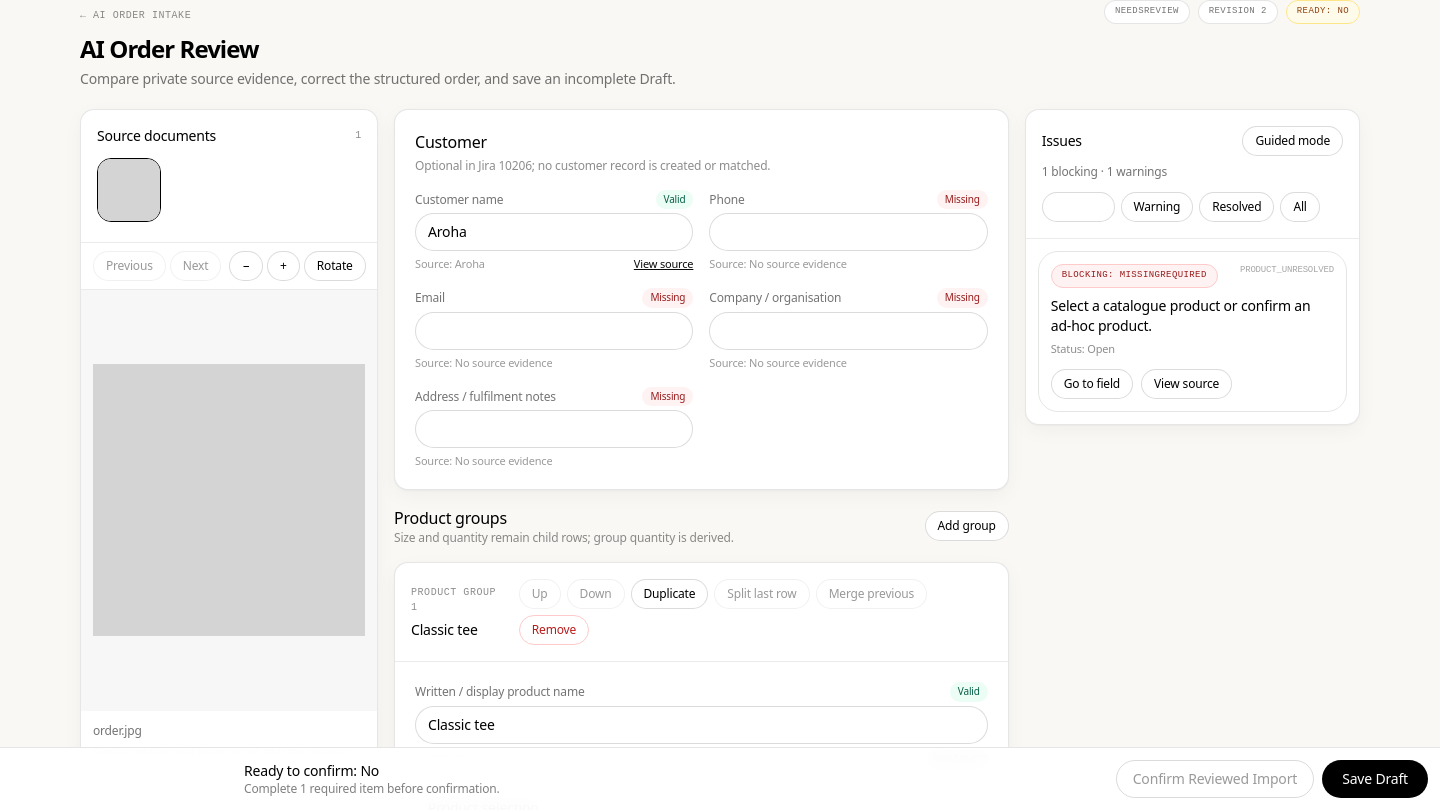
Test case: AI Order Review workspace › preserves local edits and offers reload on a 409 concurrency conflict
Replace the text in the field named "Customer name" with "Unsaved Local Name" at (554, 232), box [415, 213, 693, 251]
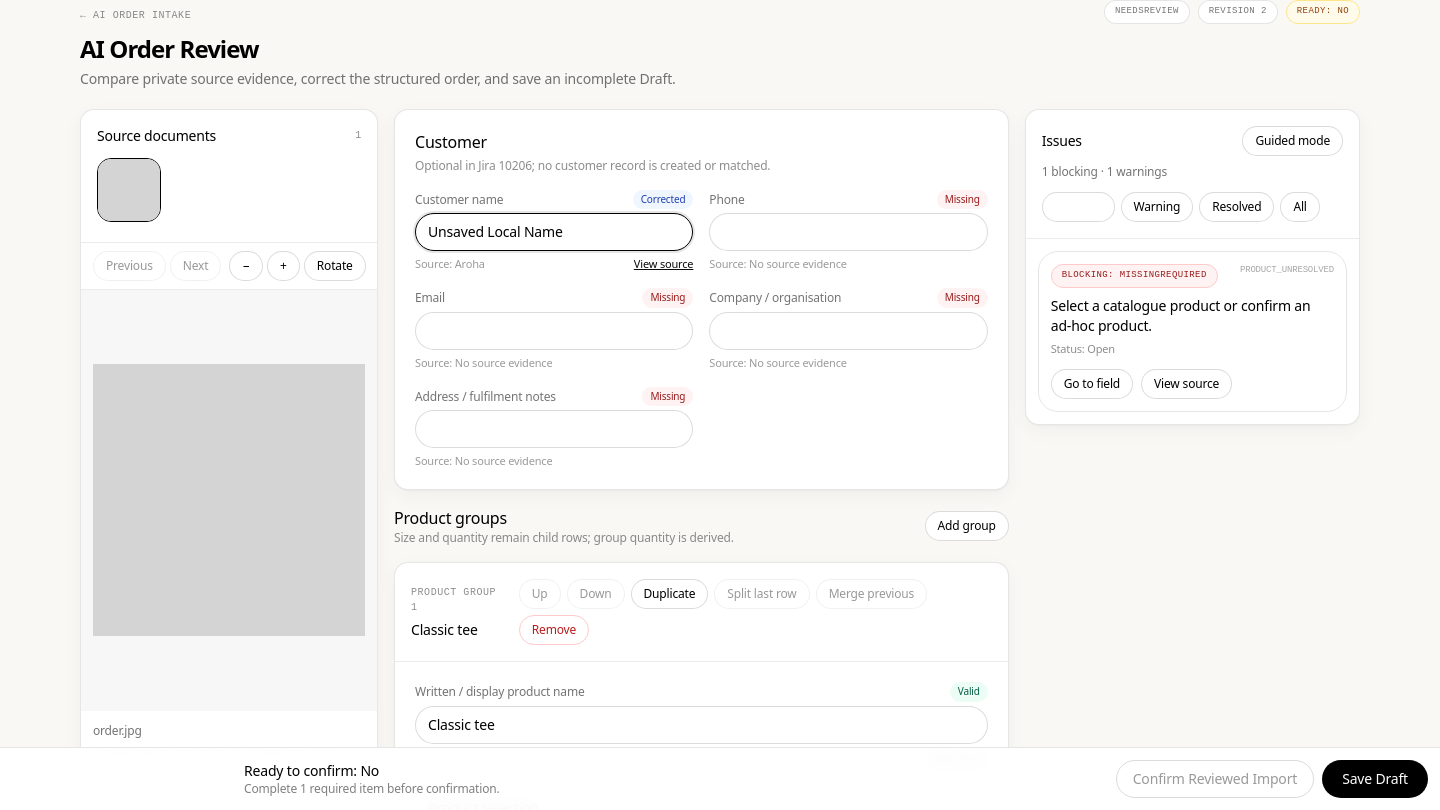
Click the button "Save Draft" at (1375, 779), box [1322, 760, 1428, 798]
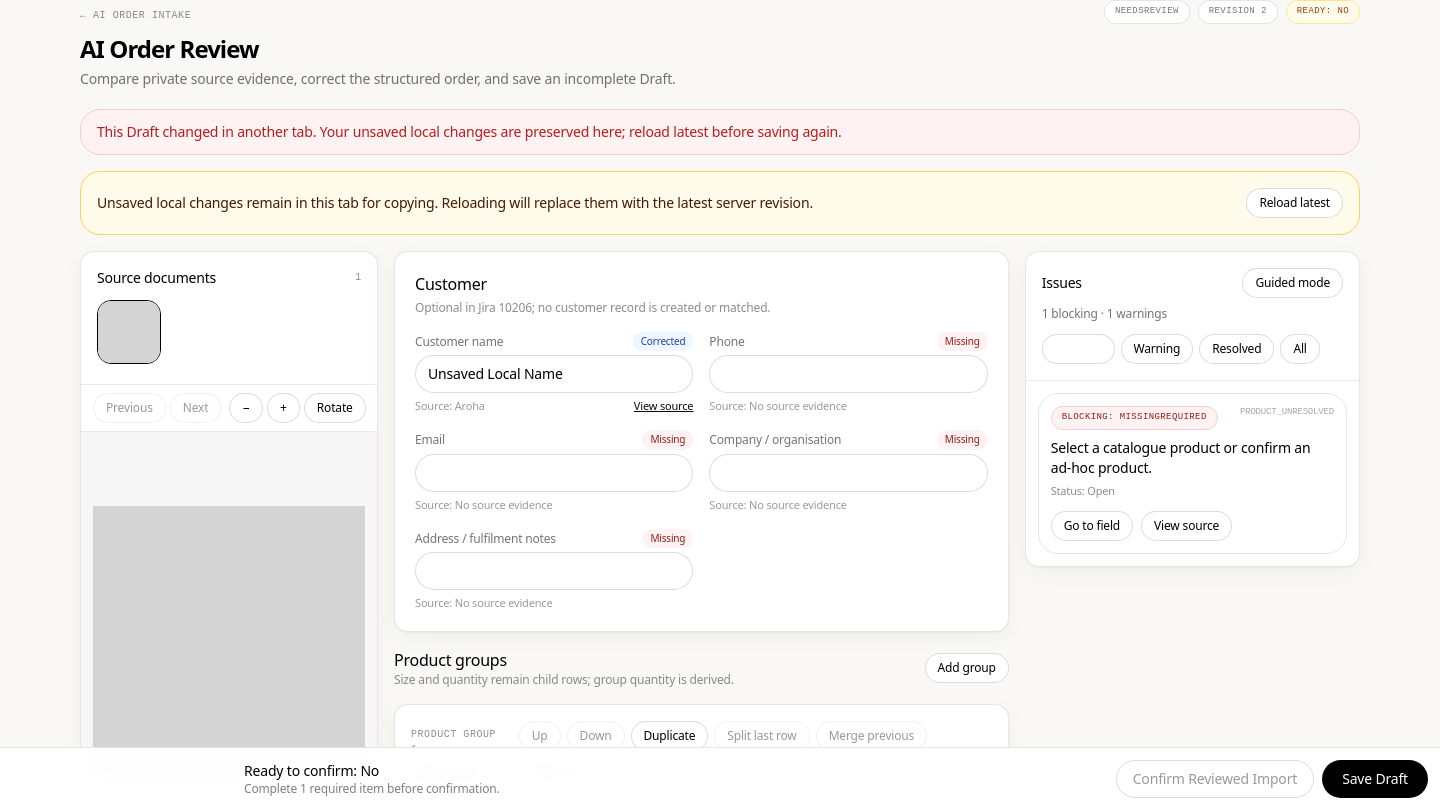
Now the text "changed in another tab" is shown, box [97, 122, 842, 141]
Now the button "Reload latest" is shown, box [1246, 188, 1343, 218]
